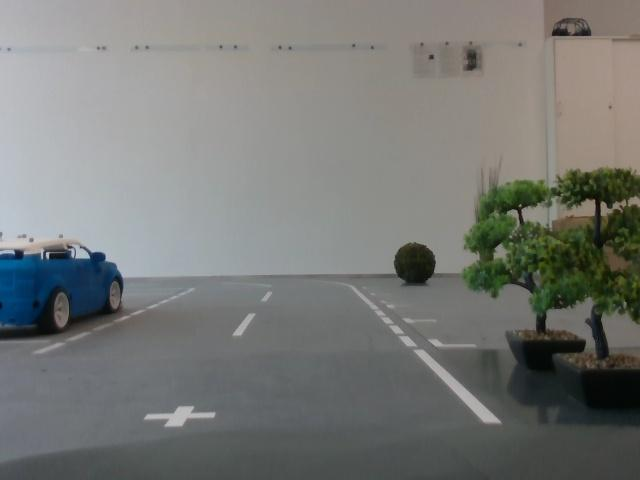car: (1, 234, 131, 337)
potted plant: (466, 179, 640, 411), (392, 242, 437, 282)
